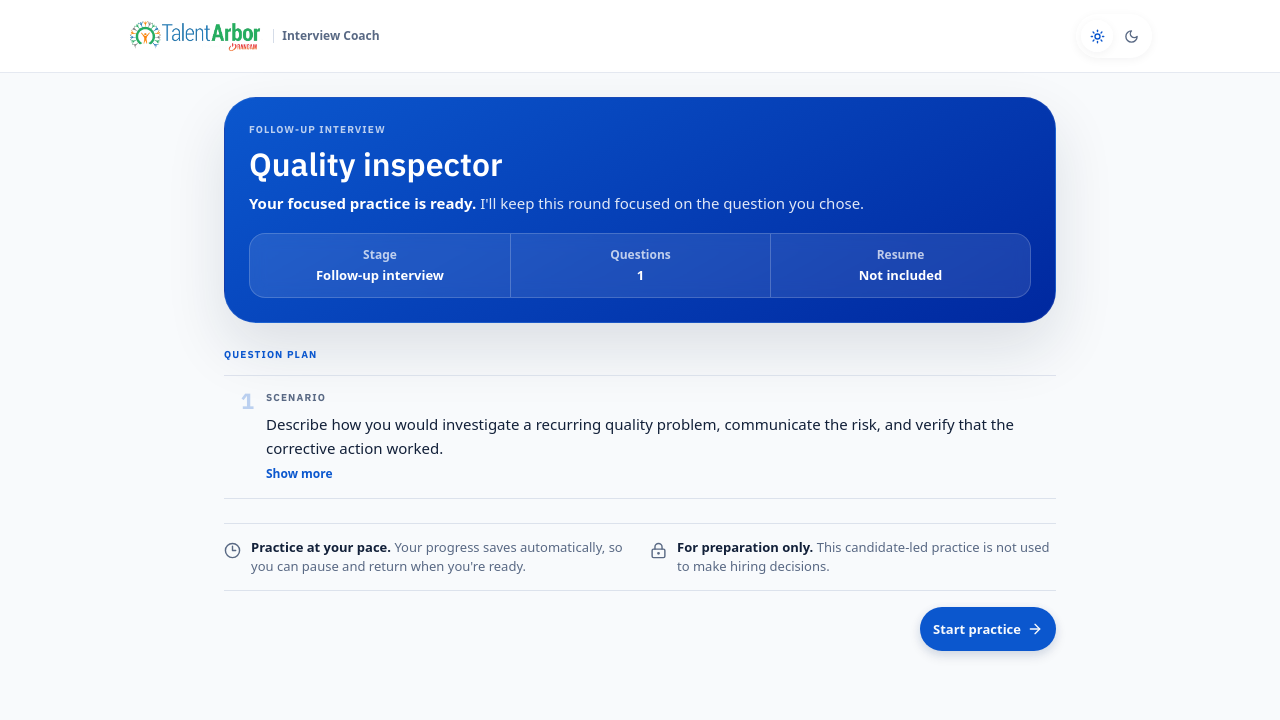
Test: candidate practice transition copy › shows expansion controls only when question text visibly overflows
Expected: the text "Scenario" is shown, [266,391,326,404]
Step 1. Click the button "Show more" → [299, 475], box [266,467,333,482]
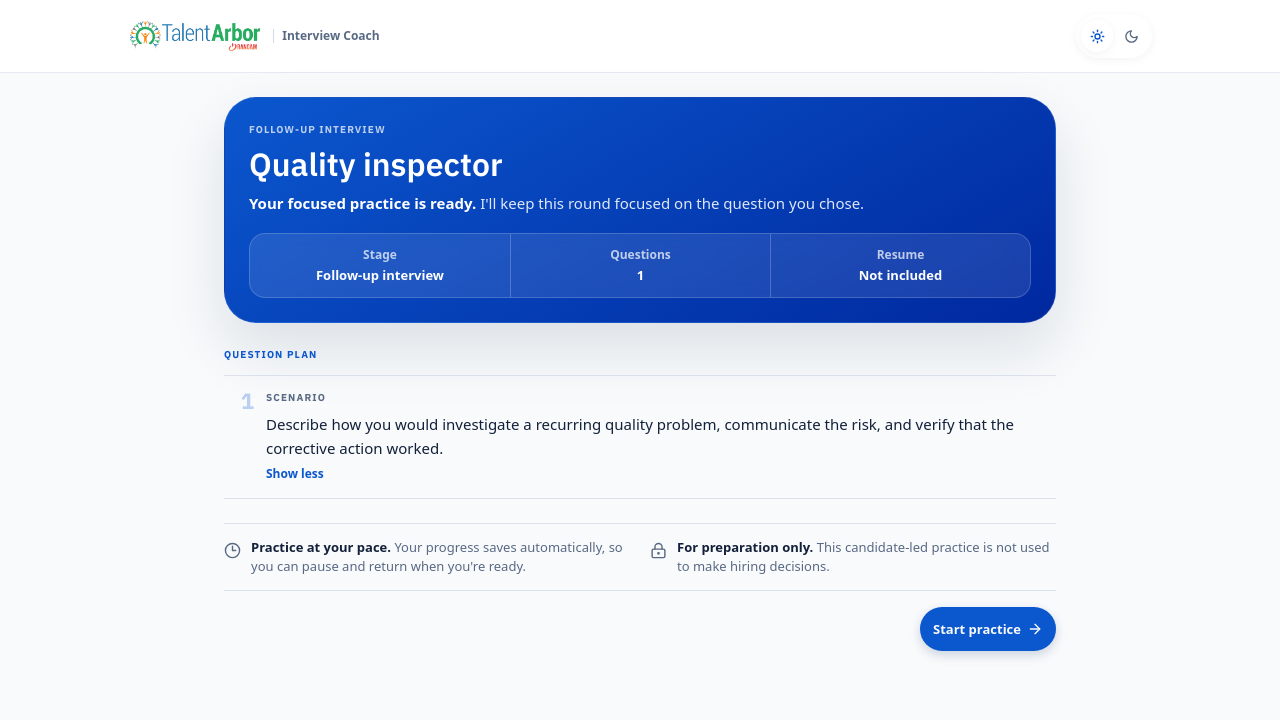
Expected: the button "Show less" is expanded
Step 2. Click the button "Show less" → [295, 475], box [266,467,324,482]
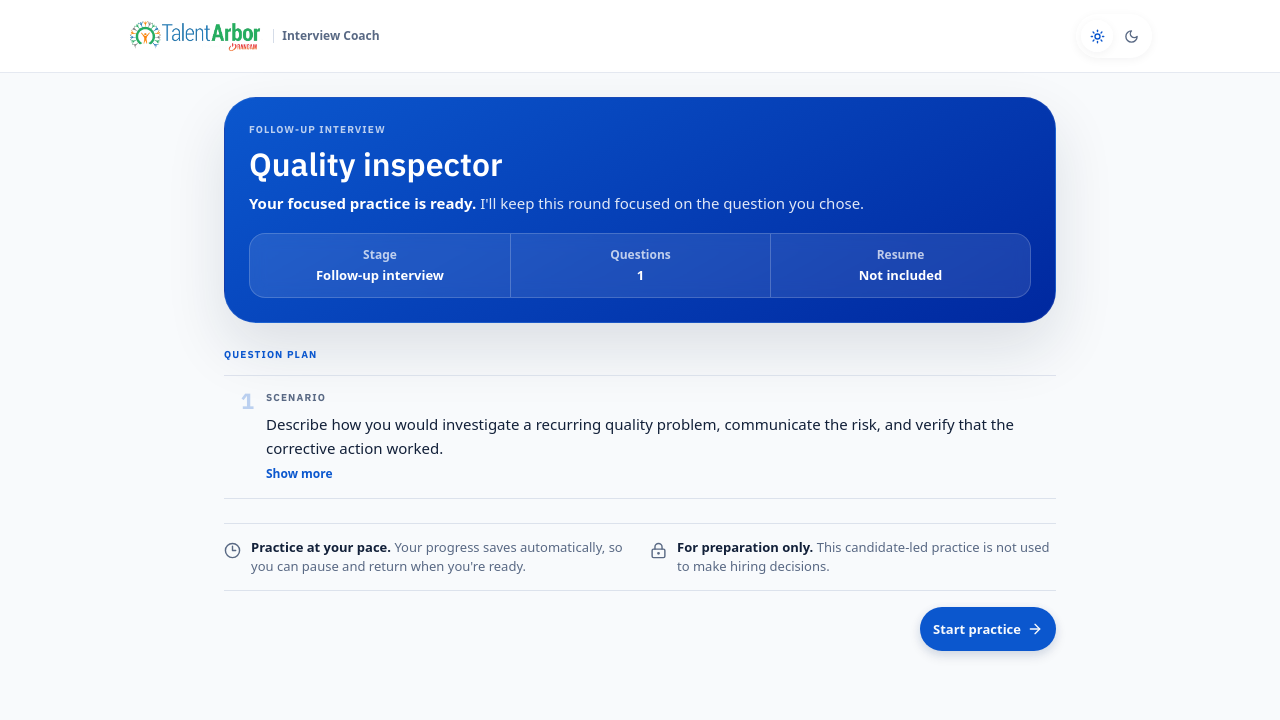
Expected: the button "Show more" is collapsed, [266,467,333,482]
